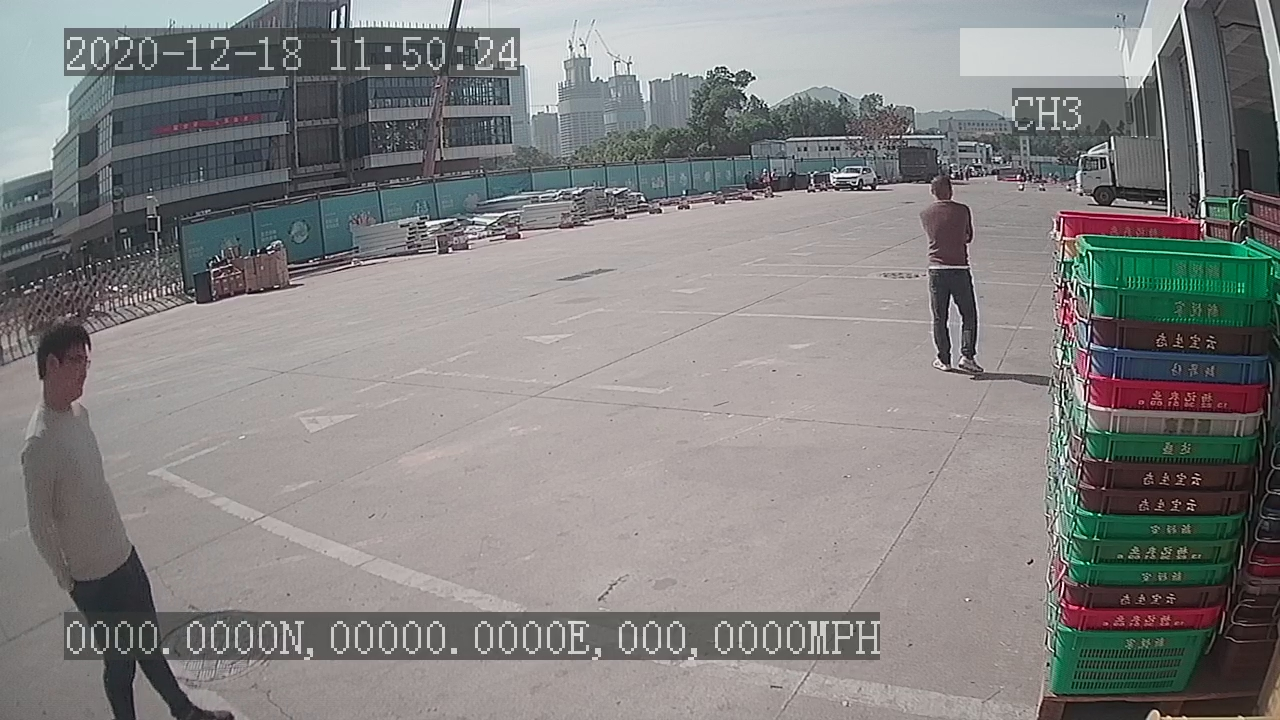person: (913, 170, 990, 379)
